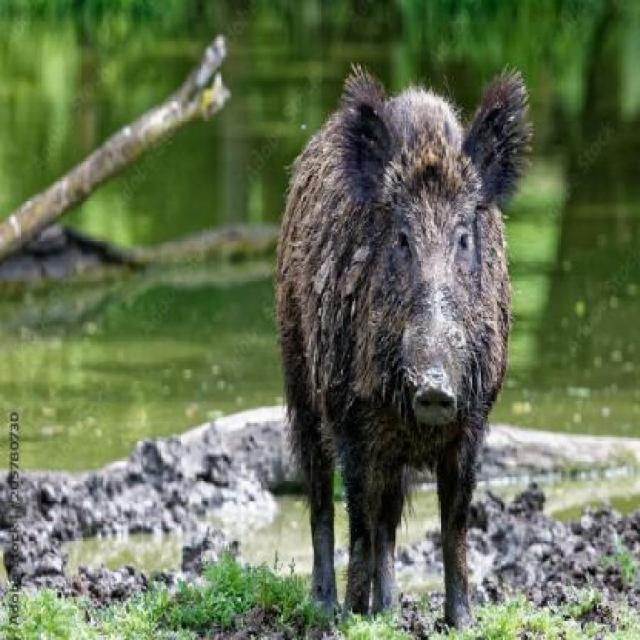wildboar: (271, 60, 537, 635)
